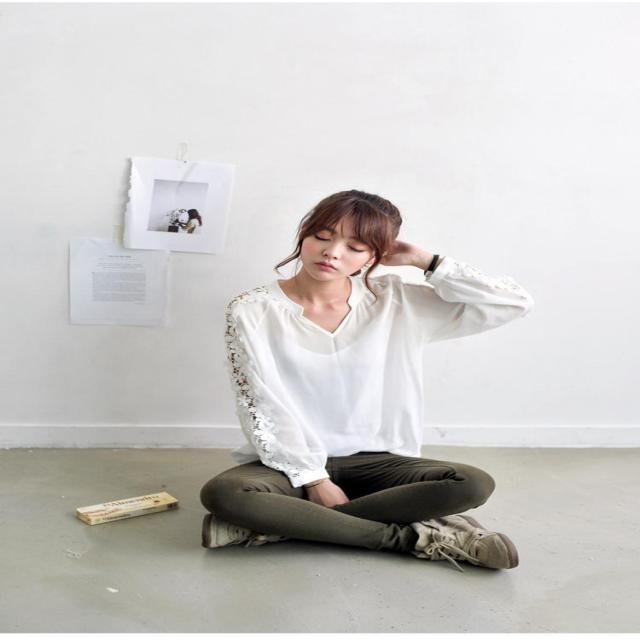long-sleeve-top: (235, 272, 482, 430)
trousers: (210, 445, 493, 542)
